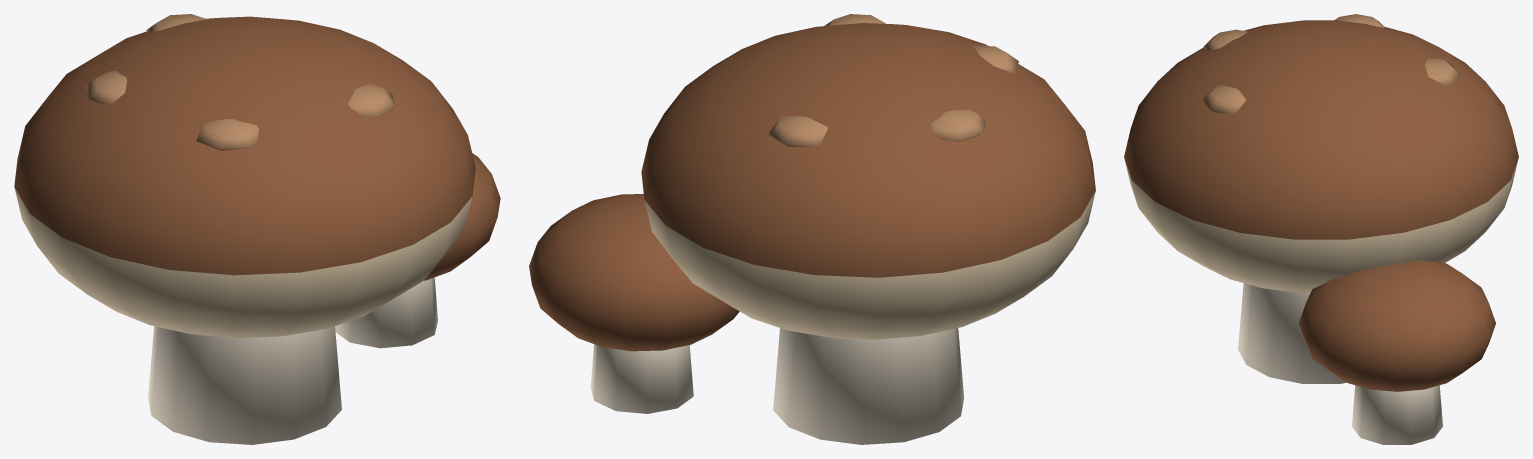
Rendered from event-mushroom.glb.
3 renders of one model, left to right at view 1: azimuth 30°, elevation 25°; view 2: azimuth 150°, elevation 25°; view 3: azimuth 270°, elevation 25°, orthographic. The views are drawn at different scales.
Parts seen in each view (by area): view 1: mushroom; view 2: mushroom; view 3: mushroom.
Boxes of the visible parts, x1=… form: mushroom: x1=14, y1=14, x2=500, y2=444; mushroom: x1=529, y1=14, x2=1095, y2=444; mushroom: x1=1124, y1=14, x2=1518, y2=444.
Size of the model in its own units: 0.3137 by 0.22 by 0.26.
